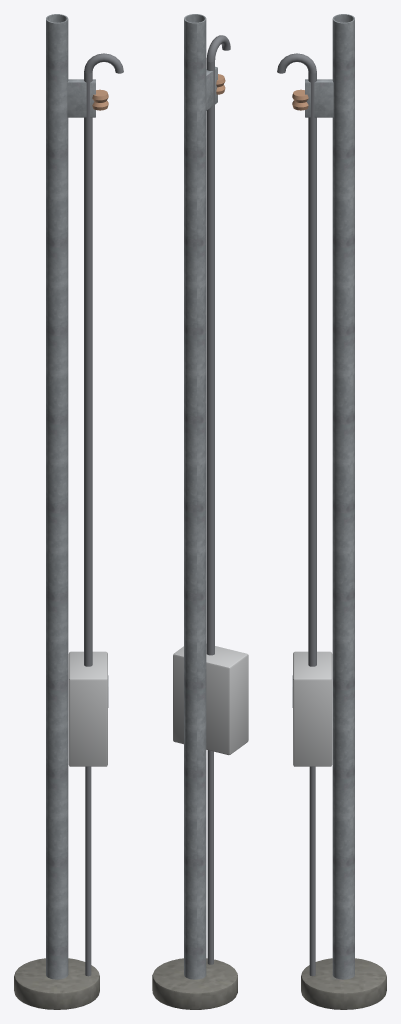
The model's file is ELE-ENT-001_lod1.glb.
3 renders of one model, left to right at view 1: azimuth 90°, elevation 25°; view 2: azimuth 150°, elevation 25°; view 3: azimuth 270°, elevation 25°, orthographic.
Parts seen in each view (by area): view 1: ELE-ENT-001_poste, ELE-ENT-001_eletroduto, ELE-ENT-001_caixa, ELE-ENT-001_base, ELE-ENT-001_ramal, ELE-ENT-001_armacao, ELE-ENT-001_curva, ELE-ENT-001_roldana; view 2: ELE-ENT-001_poste, ELE-ENT-001_caixa, ELE-ENT-001_eletroduto, ELE-ENT-001_base, ELE-ENT-001_ramal, ELE-ENT-001_armacao, ELE-ENT-001_curva; view 3: ELE-ENT-001_poste, ELE-ENT-001_eletroduto, ELE-ENT-001_caixa, ELE-ENT-001_base, ELE-ENT-001_ramal, ELE-ENT-001_armacao, ELE-ENT-001_curva, ELE-ENT-001_roldana.
Part boxes in pixels (box(x1,y1,x2,y2)): ELE-ENT-001_poste: box(46, 14, 68, 979); ELE-ENT-001_eletroduto: box(84, 72, 92, 666); ELE-ENT-001_caixa: box(68, 651, 107, 766); ELE-ENT-001_base: box(14, 958, 99, 1009); ELE-ENT-001_ramal: box(85, 766, 91, 976); ELE-ENT-001_armacao: box(67, 79, 95, 117); ELE-ENT-001_curva: box(84, 53, 123, 73); ELE-ENT-001_roldana: box(92, 89, 108, 110); ELE-ENT-001_poste: box(184, 14, 206, 979); ELE-ENT-001_caixa: box(173, 644, 248, 755); ELE-ENT-001_eletroduto: box(206, 61, 214, 655); ELE-ENT-001_base: box(152, 958, 237, 1009); ELE-ENT-001_ramal: box(207, 750, 213, 964); ELE-ENT-001_armacao: box(206, 66, 217, 110); ELE-ENT-001_curva: box(206, 35, 230, 62); ELE-ENT-001_poste: box(332, 14, 354, 979); ELE-ENT-001_eletroduto: box(308, 72, 316, 666); ELE-ENT-001_caixa: box(293, 651, 332, 766); ELE-ENT-001_base: box(301, 958, 386, 1009); ELE-ENT-001_ramal: box(309, 766, 315, 976); ELE-ENT-001_armacao: box(305, 79, 333, 117); ELE-ENT-001_curva: box(277, 53, 316, 73); ELE-ENT-001_roldana: box(292, 89, 308, 110).
Size of the model in its own units: 0.44 by 5.5 by 0.562.
Materials: 7 (2 with a texture image).
